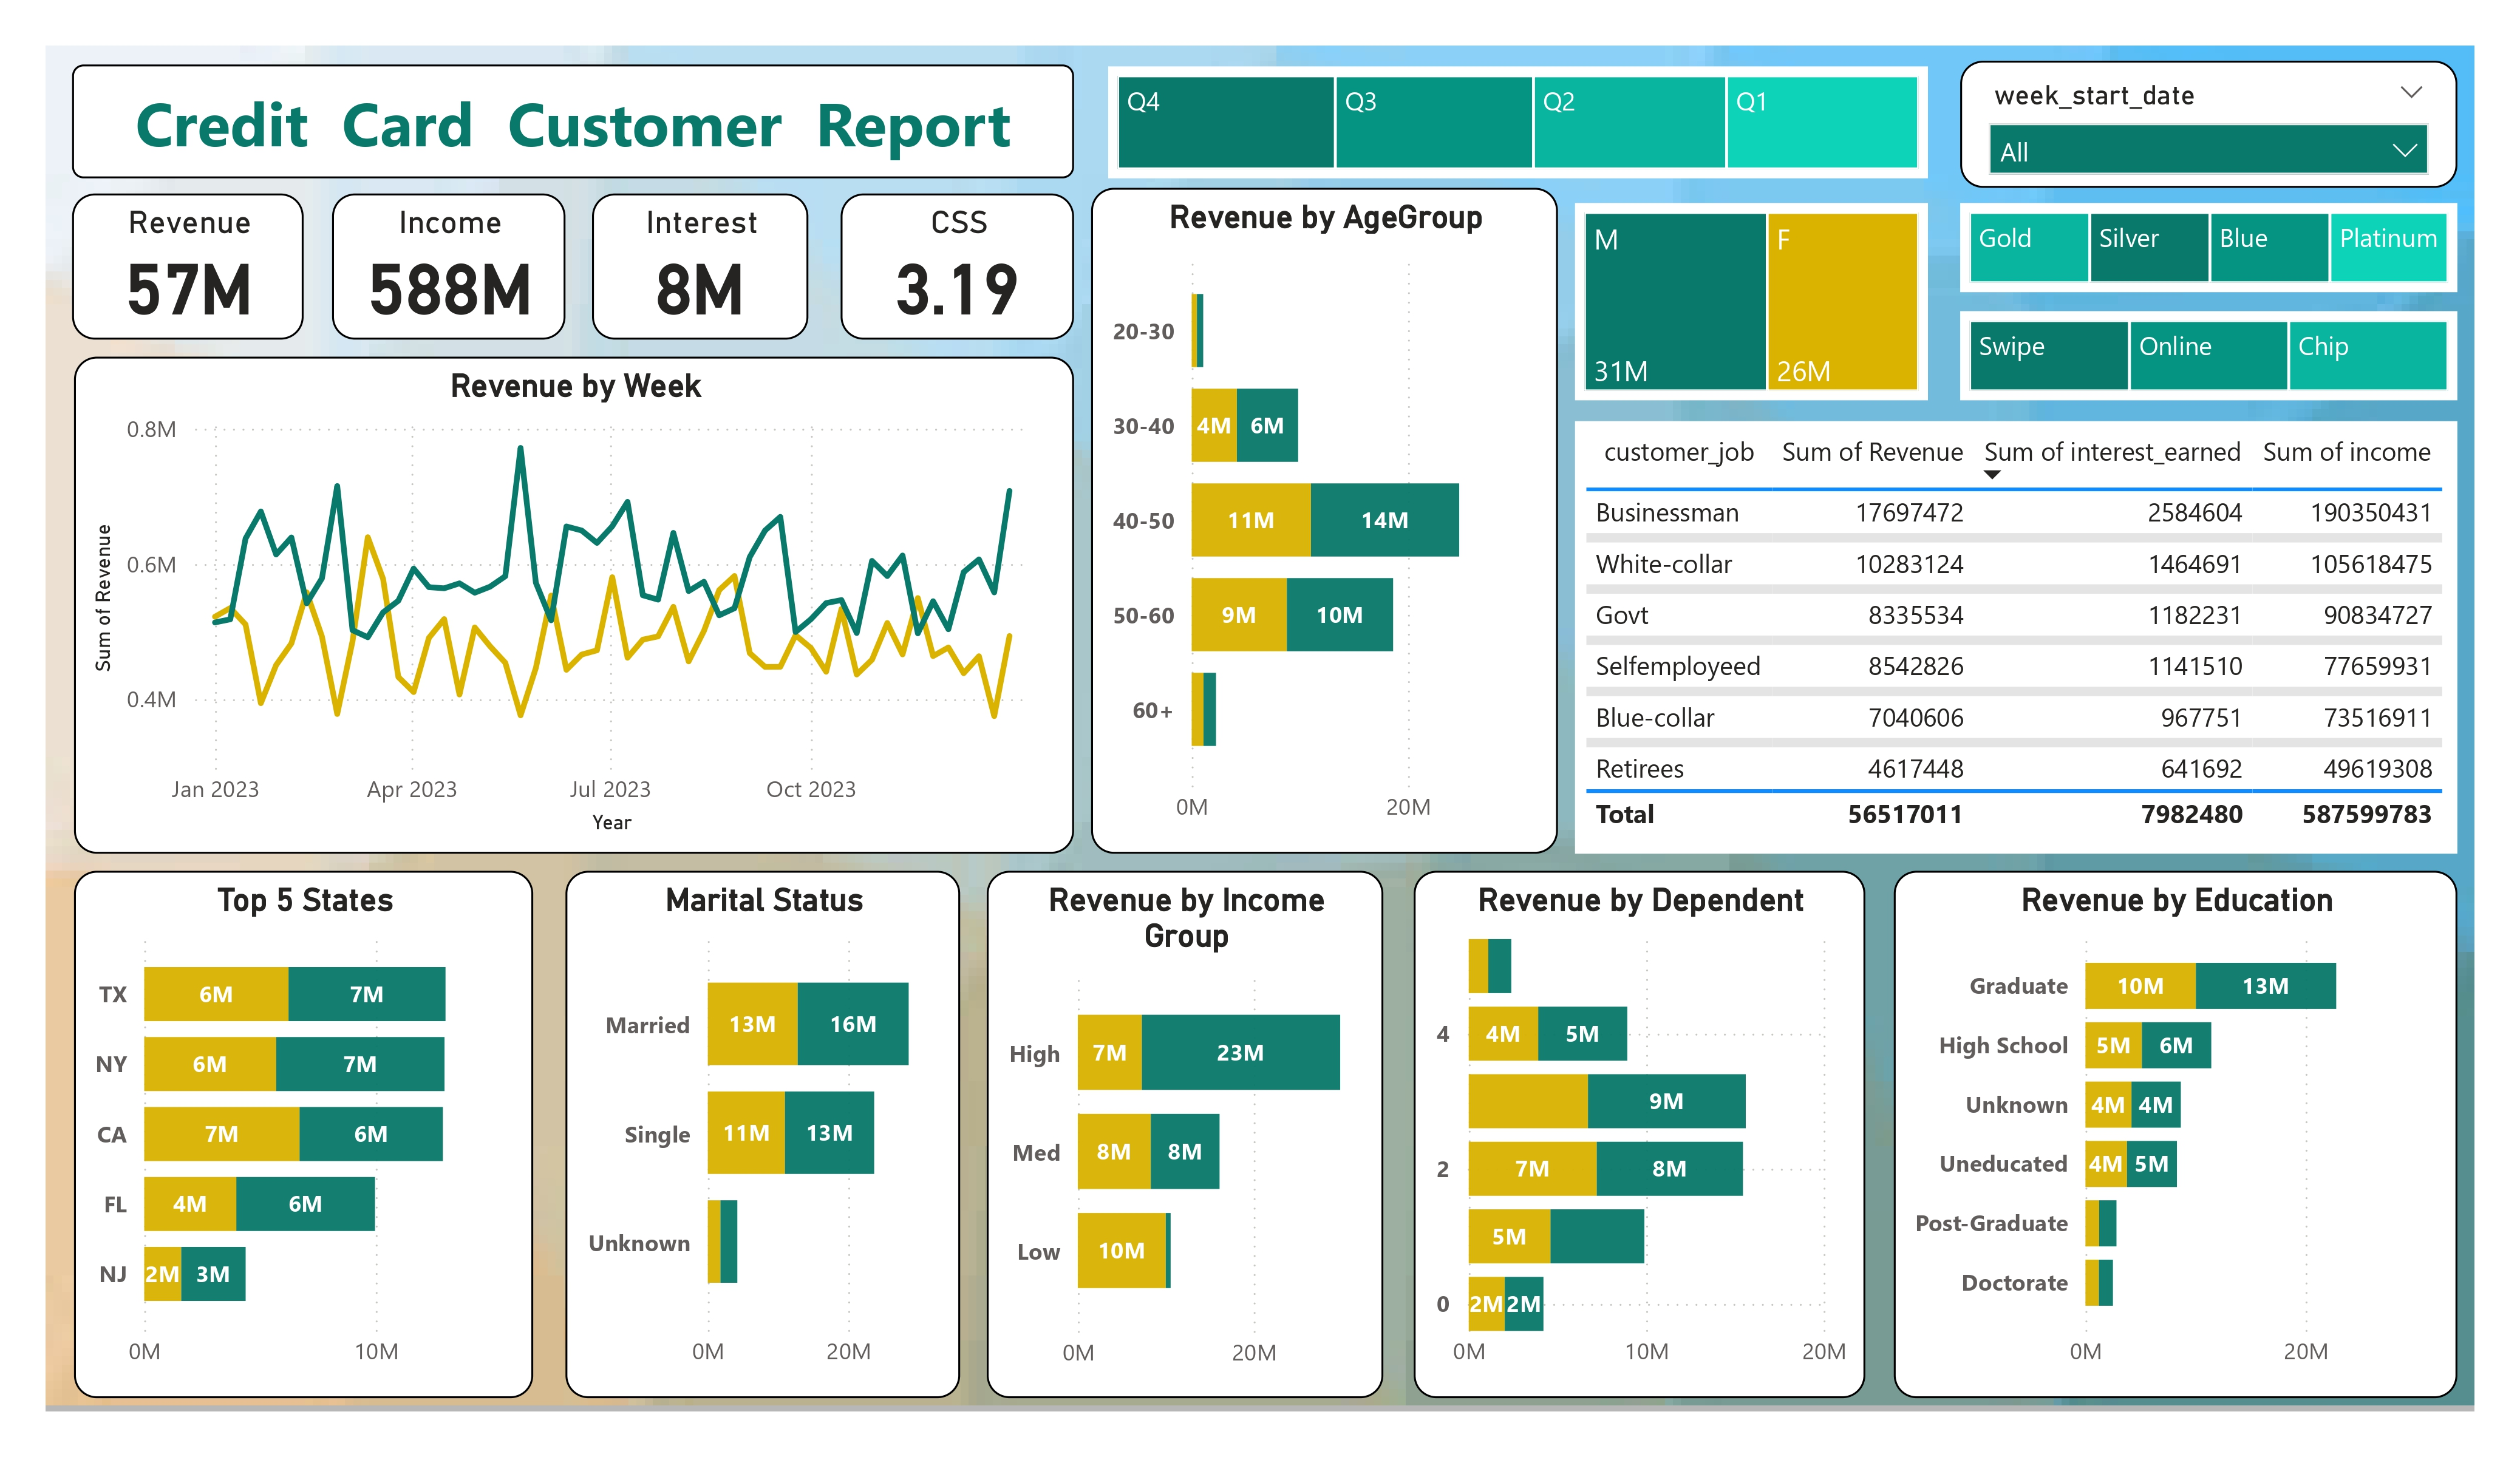

This screenshot's page, from the dashboard's own definition file:
{"tool":"powerbi","page":{"name":"CC Customer","canvas":[1280,720],"ordinal":1},"visuals":[{"type":"textbox","box":[14,10.2,528.3,59.8],"z":0},{"type":"barChart","title":"Revenue by Income Group","fields":{"Y":["Sum(public cc_detail.Revenue)"],"Category":["public cust_detail.IncomeGroup"],"Series":["public cust_detail.gender"]},"box":[496.1,435.2,209,277.8],"z":1000},{"type":"tableEx","fields":{"Values":["public cust_detail.customer_job","Sum(public cc_detail.Revenue)","Sum(public cc_detail.interest_earned)","Sum(public cust_detail.income)"]},"box":[805.6,198.4,465.6,227.5],"z":2000},{"type":"slicer","fields":{"Values":["public cc_detail.week_start_date"]},"box":[1009.3,7.9,261.9,67.5],"z":3000},{"type":"treemap","fields":{"Group":["public cc_detail.qtr"],"Values":["Avg(public cust_detail.client_num)"]},"box":[559.6,10.6,432.6,59.5],"z":4000},{"type":"treemap","fields":{"Group":["public cc_detail.card_category","public cust_detail.IncomeGroup"],"Values":["Avg(public cust_detail.client_num)"]},"box":[1009.3,83.3,261.9,46.3],"z":5000},{"type":"card","title":"Revenue","fields":{"Values":["Sum(public cc_detail.Revenue)"]},"box":[14,77.7,122.2,77.7],"z":6000},{"type":"card","title":"Income","fields":{"Values":["Sum(public cust_detail.income)"]},"box":[151.5,77.7,122.2,77.7],"z":7000},{"type":"card","title":"Interest","fields":{"Values":["Sum(public cc_detail.interest_earned)"]},"box":[287.7,77.7,114.6,77.7],"z":8000},{"type":"card","title":"CSS","fields":{"Values":["Avg(public cust_detail.cust_satisfaction_score)"]},"box":[418.8,77.7,123.5,77.7],"z":9000},{"type":"lineChart","title":"Revenue by Week","fields":{"Y":["Sum(public cc_detail.Revenue)"],"Series":["public cust_detail.gender"],"Category":["public cc_detail.week_start_date.Variation.Date Hierarchy.Year","public cc_detail.week_start_date.Variation.Date Hierarchy.Month","public cc_detail.week_start_date.Variation.Date Hierarchy.Day"]},"box":[14.6,164,527.8,261.9],"z":10000},{"type":"treemap","fields":{"Group":["public cust_detail.gender"],"Values":["Sum(public cc_detail.Revenue)"]},"box":[805.6,83.3,186.5,103.2],"z":11000},{"type":"barChart","title":"Revenue by AgeGroup","fields":{"Y":["Sum(public cc_detail.Revenue)"],"Category":["public cust_detail.AgeGroup"],"Series":["public cust_detail.gender"]},"box":[551.2,75.1,245.7,351.4],"z":12000},{"type":"barChart","title":"Revenue by Dependent","fields":{"Y":["Sum(public cc_detail.Revenue)"],"Category":["public cust_detail.dependent_count"],"Series":["public cust_detail.gender"]},"box":[720.9,435.2,238.1,277.8],"z":13000},{"type":"barChart","title":"Top 5 States","fields":{"Y":["Sum(public cc_detail.Revenue)"],"Category":["public cust_detail.state_cd"],"Series":["public cust_detail.gender"]},"box":[14.6,435.2,242.1,277.8],"z":14000},{"type":"barChart","title":"Revenue by Education","fields":{"Y":["Sum(public cc_detail.Revenue)"],"Category":["public cust_detail.education_level"],"Series":["public cust_detail.gender"]},"box":[973.6,435.2,297.6,277.8],"z":15000},{"type":"barChart","title":"Marital Status","fields":{"Y":["Sum(public cc_detail.Revenue)"],"Category":["public cust_detail.marital_status"],"Series":["public cust_detail.gender"]},"box":[273.8,435.2,207.7,277.8],"z":16000},{"type":"treemap","fields":{"Values":["Avg(public cust_detail.client_num)"],"Group":["public cc_detail.use_chip"]},"box":[1009.3,140.2,261.9,46.3],"z":17000}]}

Visuals, with their boxes in screenshot pixels (x1, y1, x2, y2):
textbox: 79:72:1068:183
"Revenue by Income Group" barChart: 981:868:1373:1387
tableEx - public cust_detail.customer_job x Sum(public cc_detail.Revenue): 1561:424:2433:850
slicer - public cc_detail.week_start_date: 1943:67:2433:194
treemap - public cc_detail.qtr x Avg(public cust_detail.client_num): 1100:72:1910:184
treemap - public cc_detail.card_category x public cust_detail.IncomeGroup: 1943:208:2433:295
"Revenue" card: 79:198:308:344
"Income" card: 336:198:565:344
"Interest" card: 591:198:806:344
"CSS" card: 837:198:1068:344
"Revenue by Week" lineChart: 80:359:1068:850
treemap - public cust_detail.gender x Sum(public cc_detail.Revenue): 1561:208:1910:402
"Revenue by AgeGroup" barChart: 1085:193:1545:851
"Revenue by Dependent" barChart: 1403:868:1848:1387
"Top 5 States" barChart: 80:868:533:1387
"Revenue by Education" barChart: 1876:868:2433:1387
"Marital Status" barChart: 565:868:954:1387
treemap - Avg(public cust_detail.client_num) x public cc_detail.use_chip: 1943:315:2433:402
